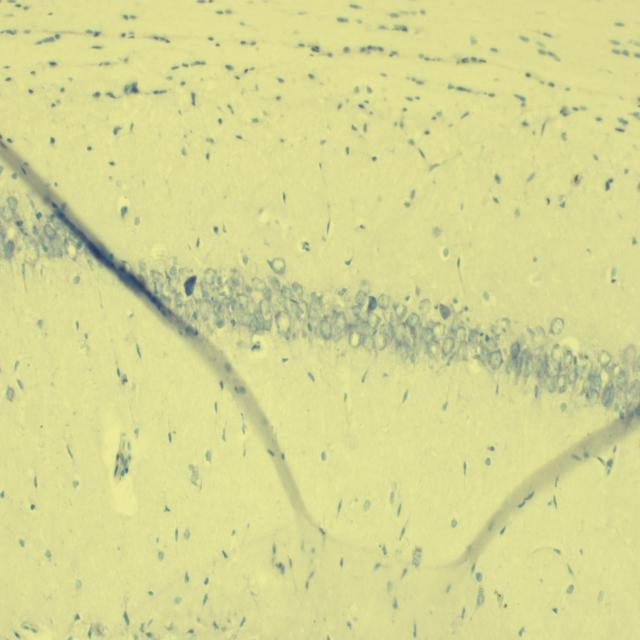neuron: (24, 238, 40, 268), (612, 385, 628, 413), (601, 381, 615, 409), (63, 238, 79, 261), (276, 311, 292, 334), (532, 352, 547, 376), (394, 339, 409, 362), (531, 324, 545, 348), (341, 306, 359, 324), (491, 318, 511, 334), (158, 281, 172, 303), (173, 304, 190, 322), (426, 340, 442, 359), (372, 332, 387, 352), (393, 302, 408, 322), (393, 322, 407, 343), (551, 344, 565, 365), (572, 376, 586, 397), (622, 345, 636, 366), (192, 281, 205, 303), (546, 358, 560, 378), (625, 402, 636, 427), (490, 349, 503, 370), (354, 320, 372, 335), (376, 293, 391, 311), (431, 322, 446, 340), (200, 298, 212, 320), (442, 336, 455, 356), (271, 257, 286, 274), (2, 239, 14, 260), (381, 321, 395, 339), (550, 317, 564, 335), (598, 349, 612, 367), (457, 340, 468, 362), (214, 308, 226, 328), (418, 298, 433, 314), (544, 374, 556, 394), (43, 223, 57, 240), (586, 389, 600, 406), (290, 302, 303, 320), (505, 356, 518, 374), (332, 321, 342, 344), (235, 303, 247, 322), (320, 321, 332, 340), (522, 358, 534, 377), (251, 277, 266, 292), (50, 214, 64, 230), (306, 304, 320, 320), (328, 303, 344, 317), (310, 292, 324, 308), (420, 327, 434, 343), (0, 205, 13, 222), (348, 331, 361, 348), (368, 313, 381, 330), (313, 320, 324, 340), (581, 360, 592, 380), (629, 378, 640, 398), (16, 226, 24, 253), (204, 268, 216, 286), (5, 196, 19, 211), (280, 284, 294, 299), (353, 291, 368, 305), (450, 317, 464, 332), (239, 323, 250, 342), (478, 348, 489, 367), (246, 299, 258, 316), (258, 298, 270, 315), (454, 326, 466, 343), (336, 312, 346, 332), (536, 360, 546, 380), (616, 371, 626, 391), (624, 387, 634, 407), (168, 276, 179, 294), (599, 368, 610, 386), (352, 305, 366, 319), (588, 373, 602, 387), (50, 242, 63, 257), (439, 304, 452, 319), (50, 233, 62, 249), (268, 275, 280, 291), (292, 282, 304, 298), (509, 342, 520, 359), (406, 313, 420, 326), (254, 308, 265, 324), (468, 328, 479, 344), (566, 368, 577, 384), (223, 282, 233, 299), (261, 287, 273, 301), (363, 336, 375, 350), (486, 338, 497, 353), (557, 374, 566, 392), (0, 222, 7, 245), (174, 292, 184, 308), (300, 300, 308, 320), (360, 279, 370, 295), (514, 355, 522, 375), (564, 352, 574, 368), (241, 284, 252, 298), (582, 378, 592, 393), (343, 290, 355, 302), (632, 355, 640, 373), (262, 316, 272, 330), (611, 364, 621, 378), (213, 300, 222, 315), (390, 312, 398, 328), (249, 317, 258, 331), (152, 270, 162, 282), (220, 296, 232, 306), (223, 308, 230, 324), (178, 267, 189, 277), (169, 265, 178, 275)
